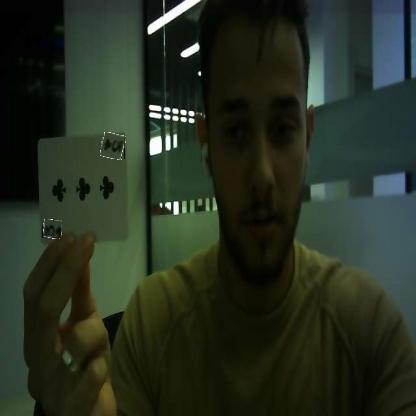3C: (101, 133, 125, 159), (42, 220, 62, 238)
